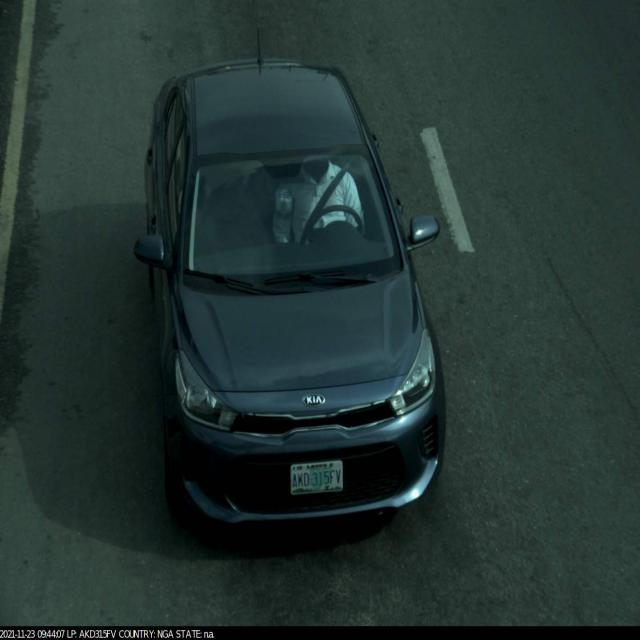windshield: (172, 144, 408, 298)
